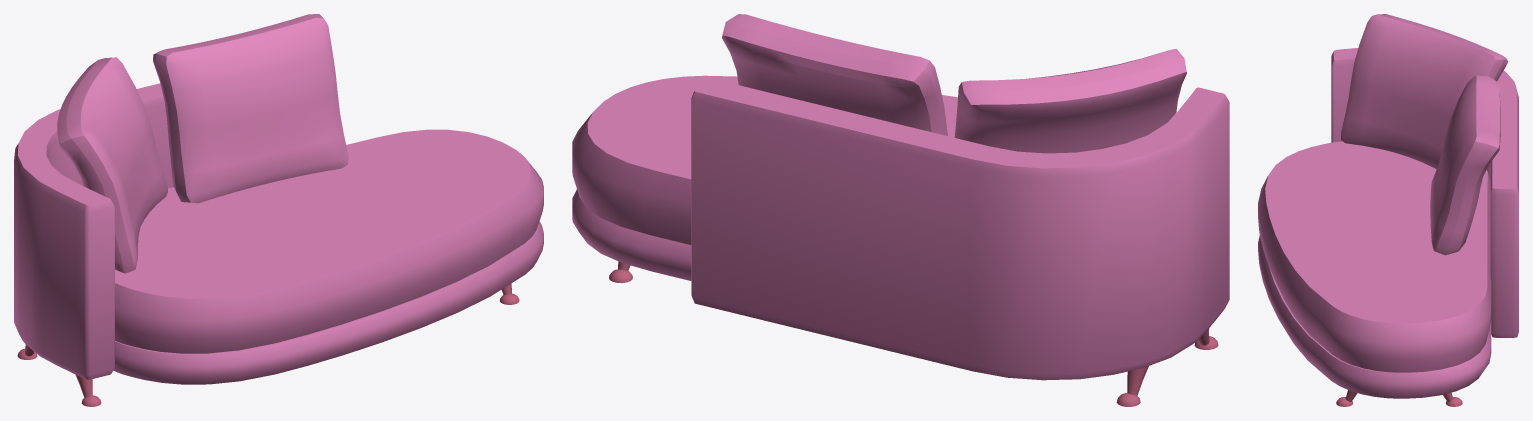
File: sofa_4__3dx.glb
3 views of the same model, side by side, from view 1: azimuth 30°, elevation 25°; view 2: azimuth 150°, elevation 25°; view 3: azimuth 270°, elevation 25° (orthographic). The views are drawn at different scales.
Visible parts, largest first — view 1: Material2, Material3; view 2: Material2, Material3; view 3: Material2, Material3.
Part boxes in pixels (x1,y1,x2,y2): Material2: (14,14,543,384); Material3: (17,283,519,406); Material2: (572,14,1229,380); Material3: (609,261,1218,406); Material2: (1258,14,1518,398); Material3: (1336,390,1462,406).
Bounding box in the file's own units: 68.21 × 33.44 × 36.24.
